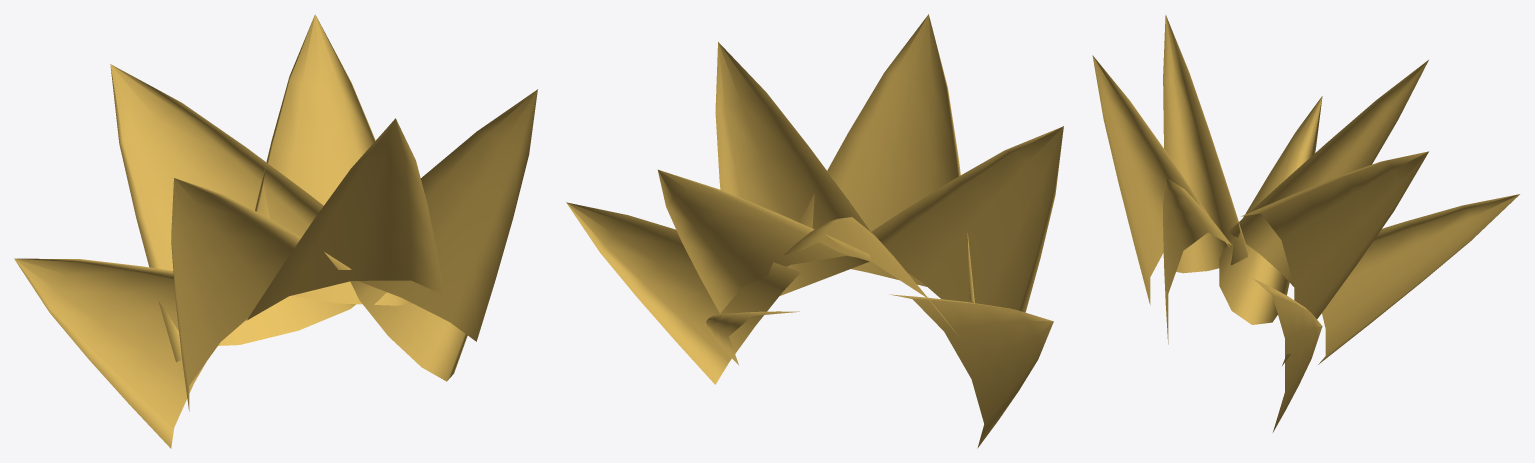
The model's file is modele.glb.
3 views of the same model, side by side, from view 1: azimuth 30°, elevation 25°; view 2: azimuth 150°, elevation 25°; view 3: azimuth 270°, elevation 25° (orthographic). The views are drawn at different scales.
Bounding box in the file's own units: 86.85 × 58.3 × 68.1.
